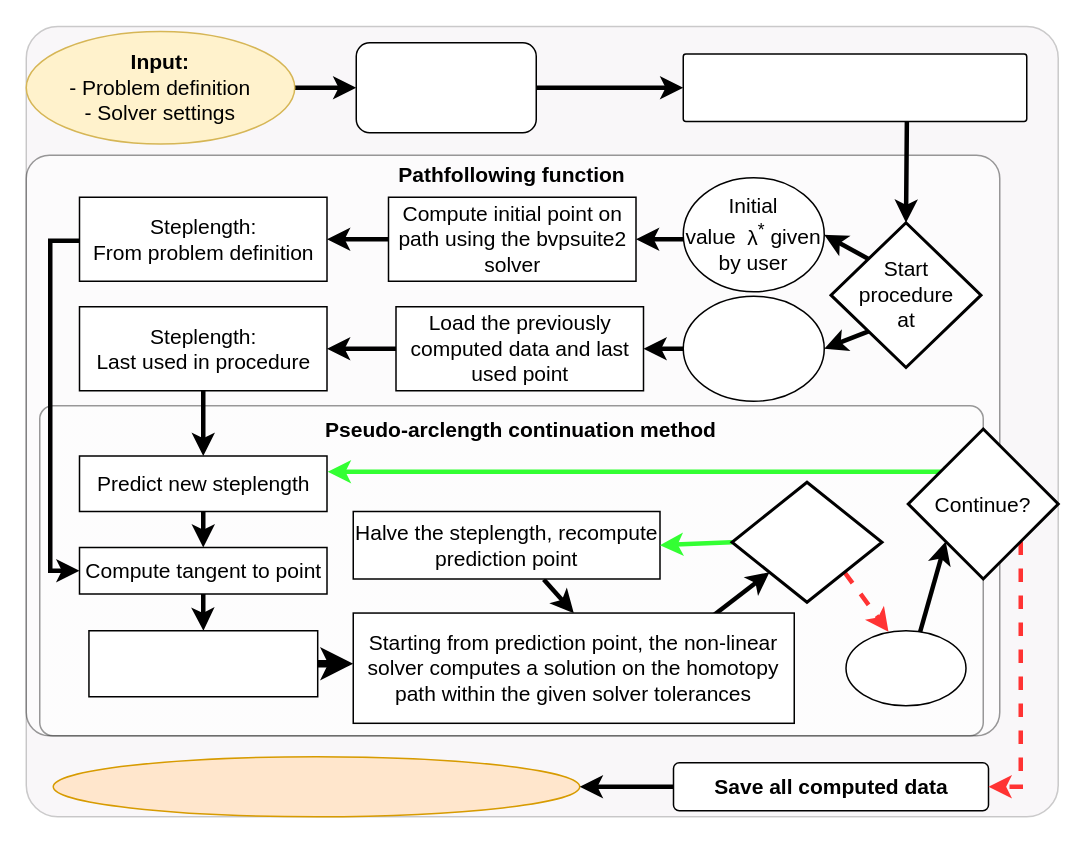
This 1086x843 diagram has some shape labels left out. The centre of each missing label's shape, as x and y in pixels:
bvpsuite2.0: [445,87]
Correction strategy if needed: [202,663]
Halve steplength?: [806,541]
Output: Last solution on the path: [316,786]
Pathfollowing problem Call the pathfollowing function: [854,87]
Previouly computed point: [753,348]
Solution accepted: [905,667]
